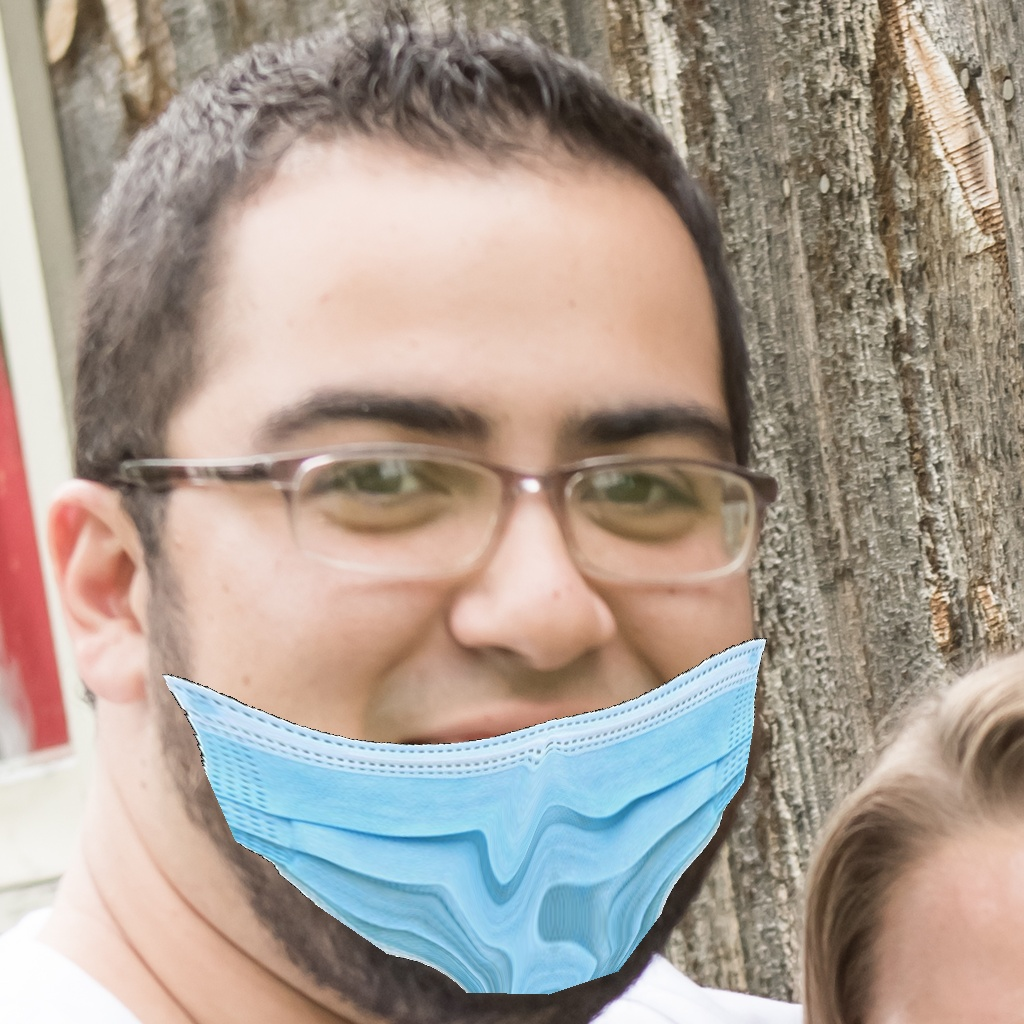Mask_Mouth_Chin: (165, 376, 769, 997)
